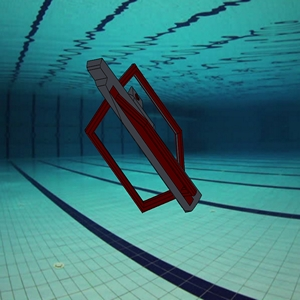submarine: (64, 38, 218, 234)
